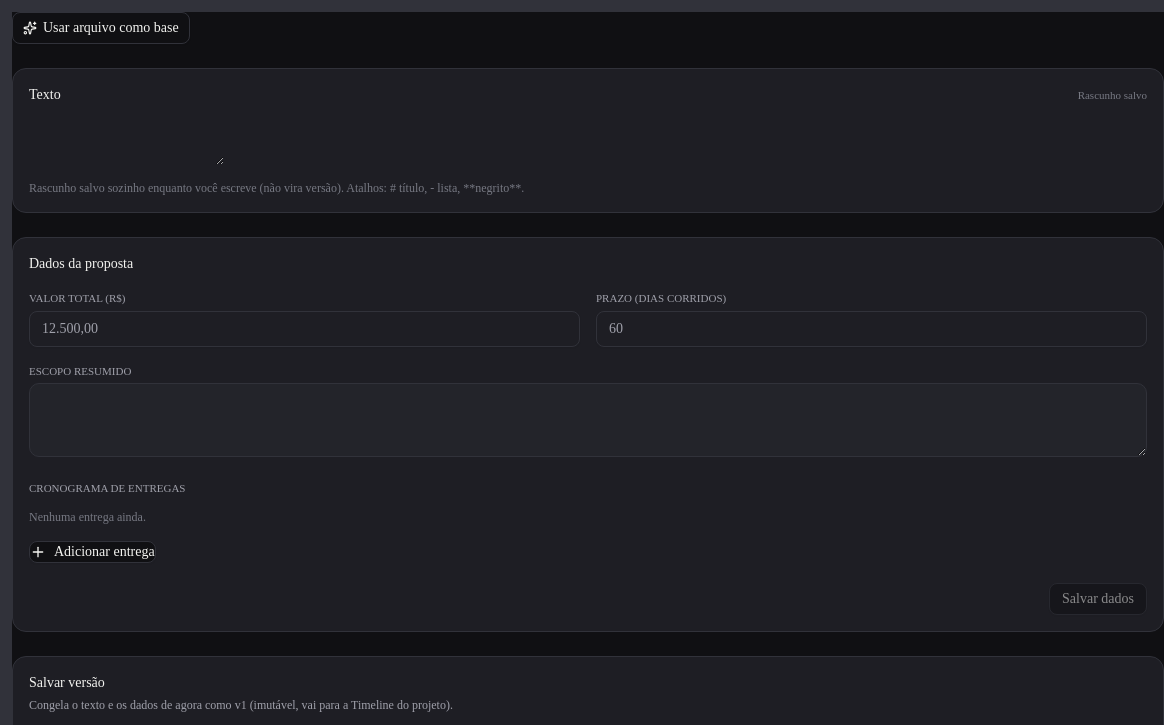
Test: PainelProposta › conflito → 'carregar a versão atual' troca o texto do editor pelo do servidor
Type "x" into the text box named "texto". click: coordinates (126, 141)
box: [29,117,224,165]
Wait 1500 ms
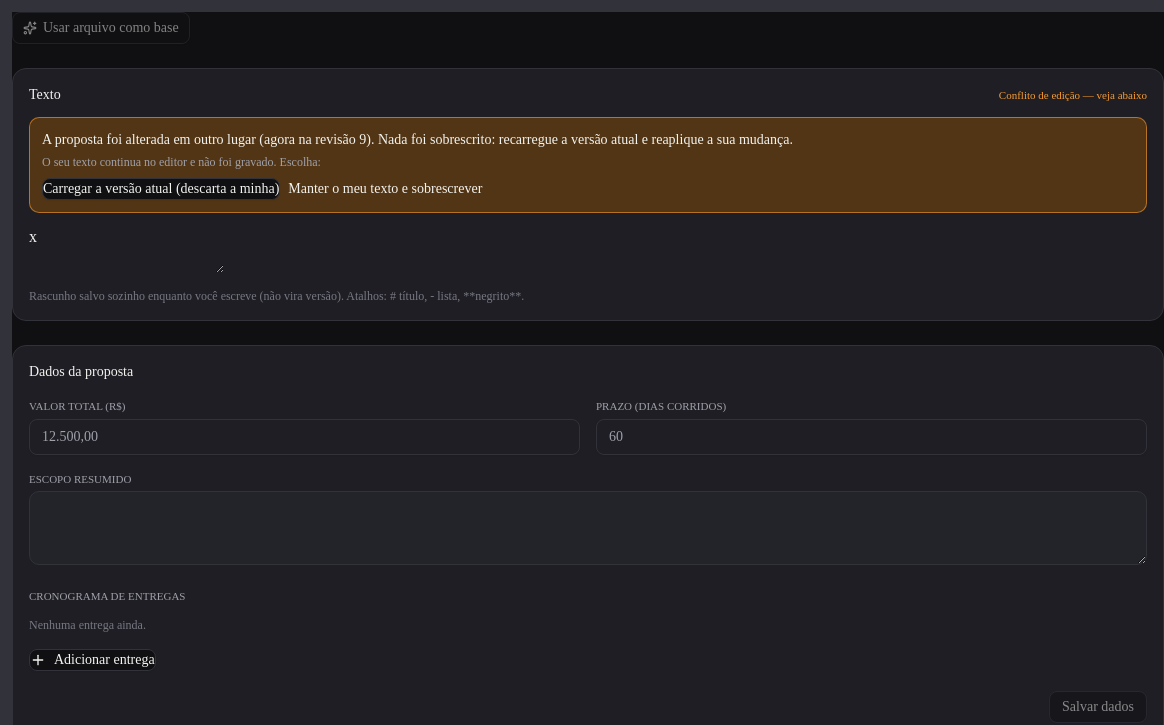
Click the button "Carregar a versão atual (descarta a minha)". click: coordinates (161, 189)
box: [42,178,280,200]
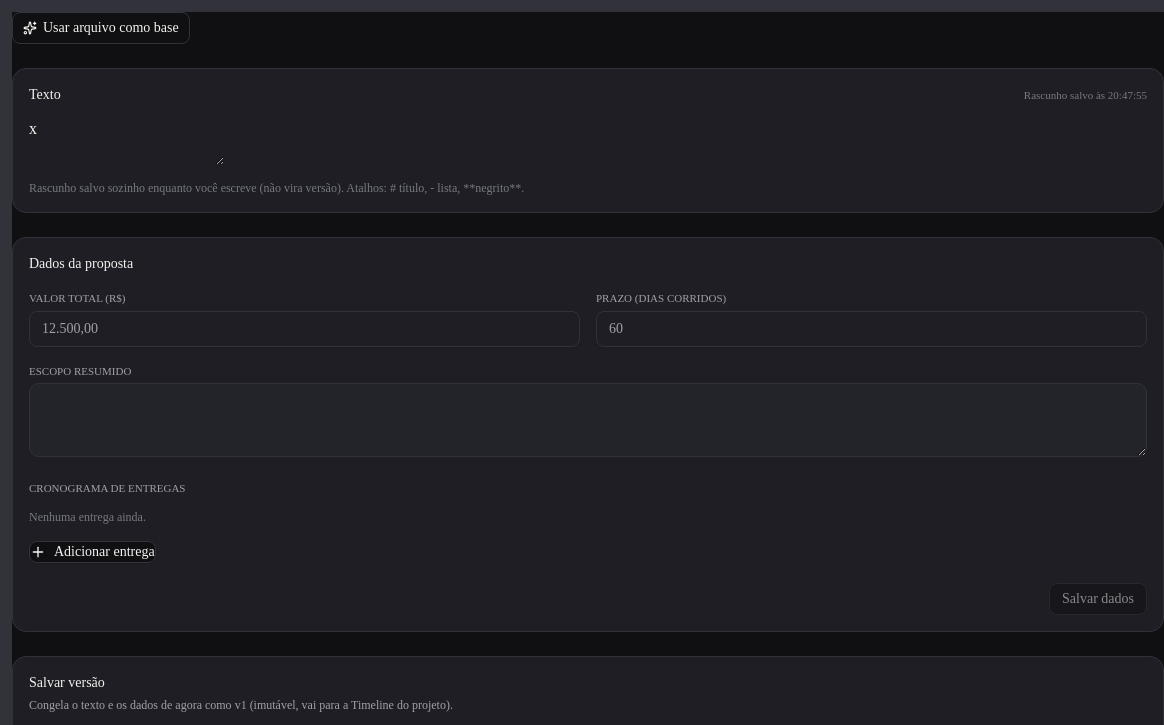
Check: the message is gone
